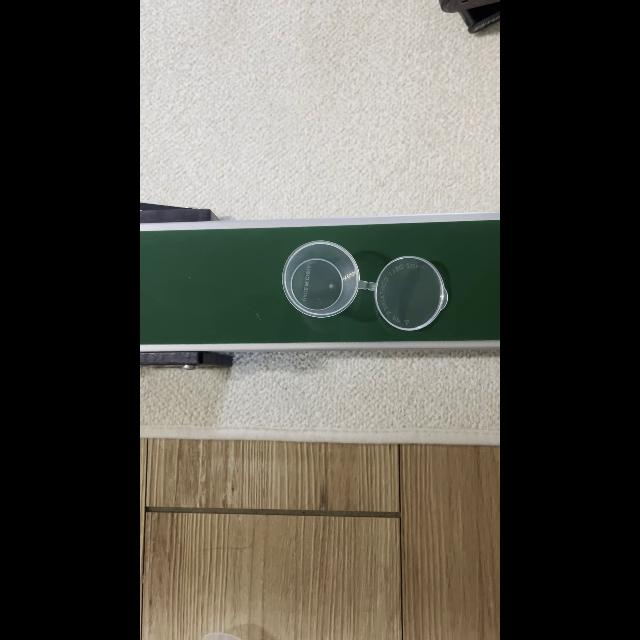clean: (283, 240, 451, 332)
